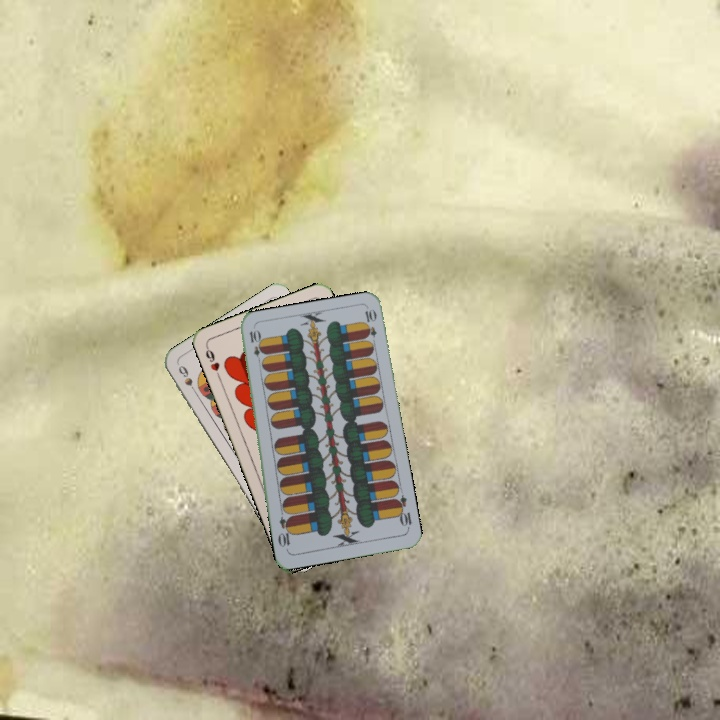E10: (391, 492, 414, 532), (245, 326, 265, 366)
H9: (201, 342, 223, 381)
S9: (174, 361, 200, 398)
